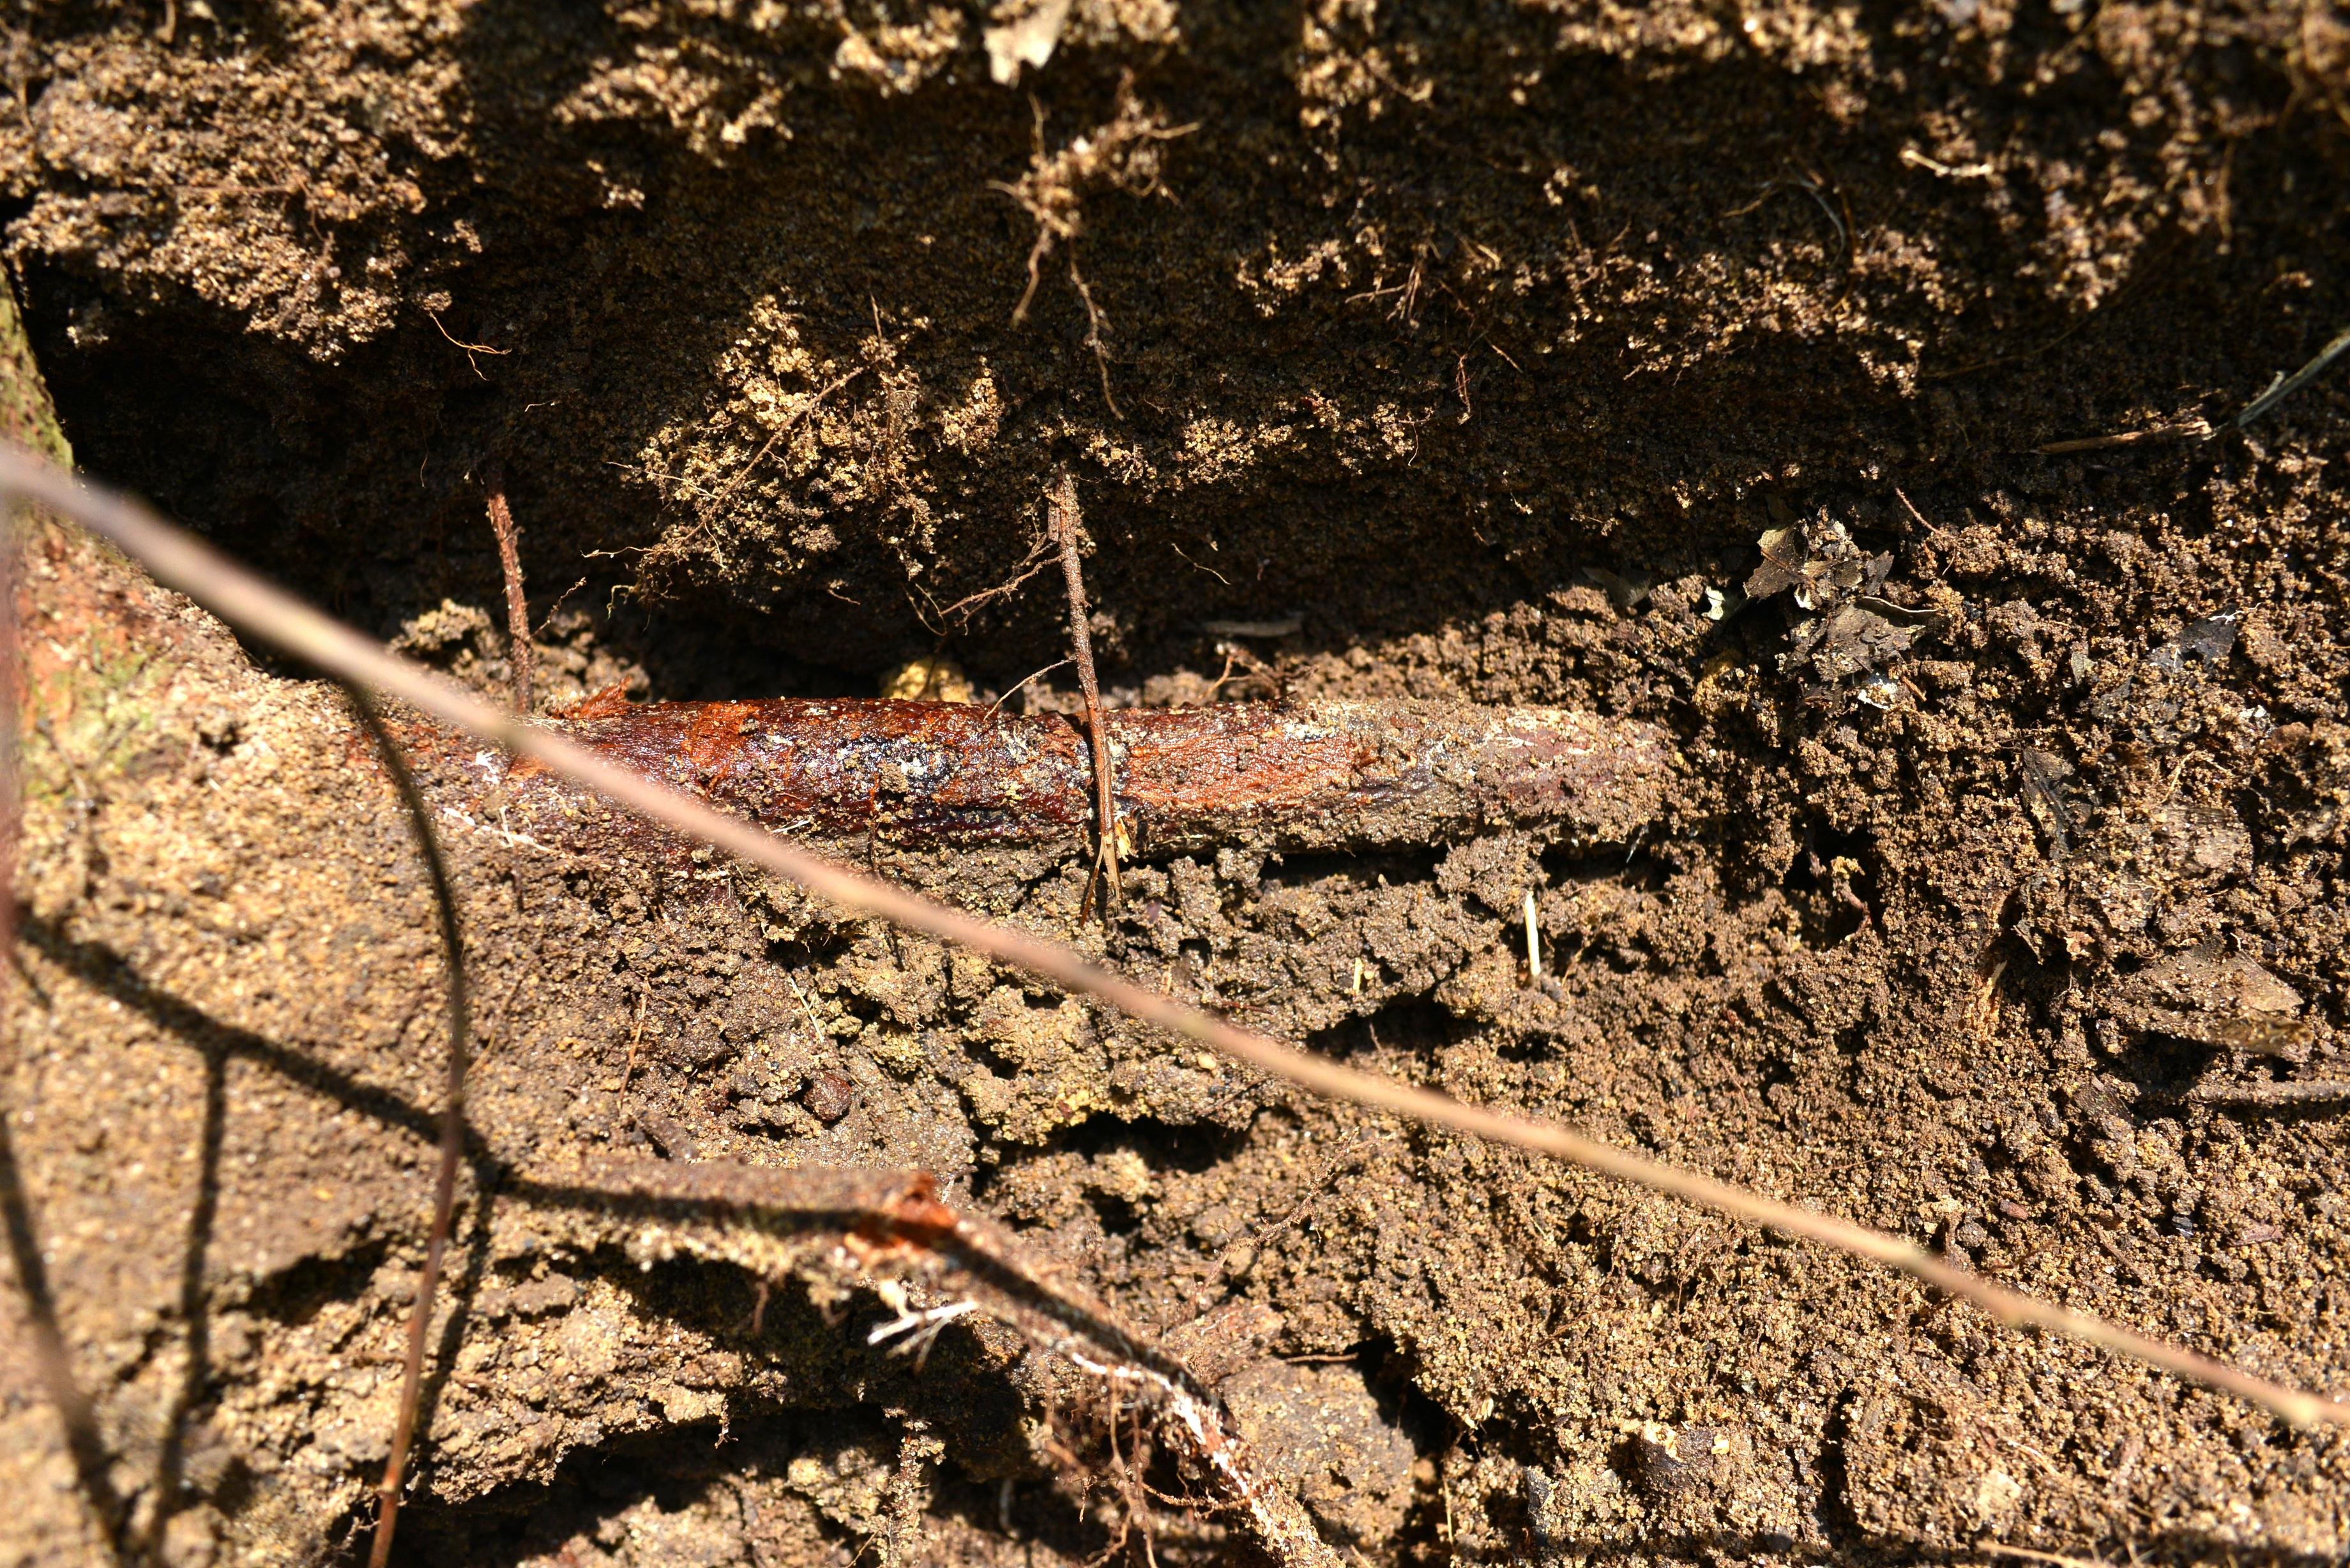Red Root Rot - Secretion: (471, 661, 1563, 854)
